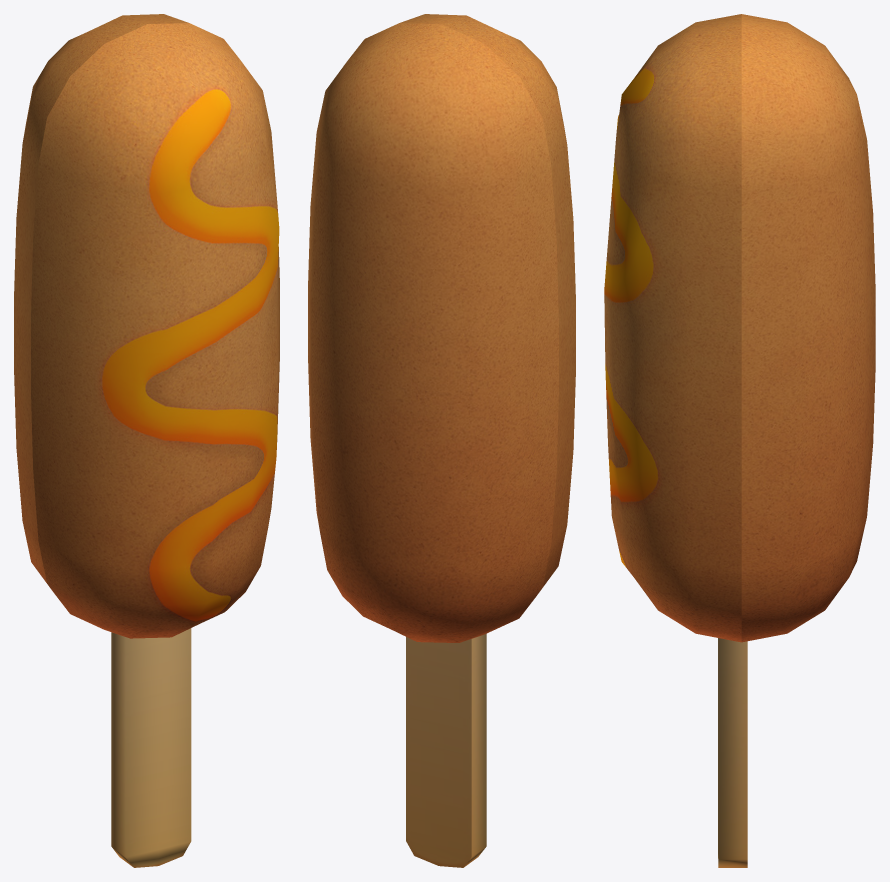
File: CornDog_1.fbx
3 views of the same model, side by side, from view 1: azimuth 30°, elevation 25°; view 2: azimuth 150°, elevation 25°; view 3: azimuth 270°, elevation 25° (orthographic).
Parts seen in each view (by area): view 1: CornDog_1; view 2: CornDog_1; view 3: CornDog_1.
Part boxes in pixels (x1,y1,x2,y2): CornDog_1: (14, 14, 279, 867); CornDog_1: (308, 14, 575, 867); CornDog_1: (604, 14, 875, 867).
Bounding box in the file's own units: 25.43 × 87.31 × 25.73.
Materials: 1 (1 with a texture image).
